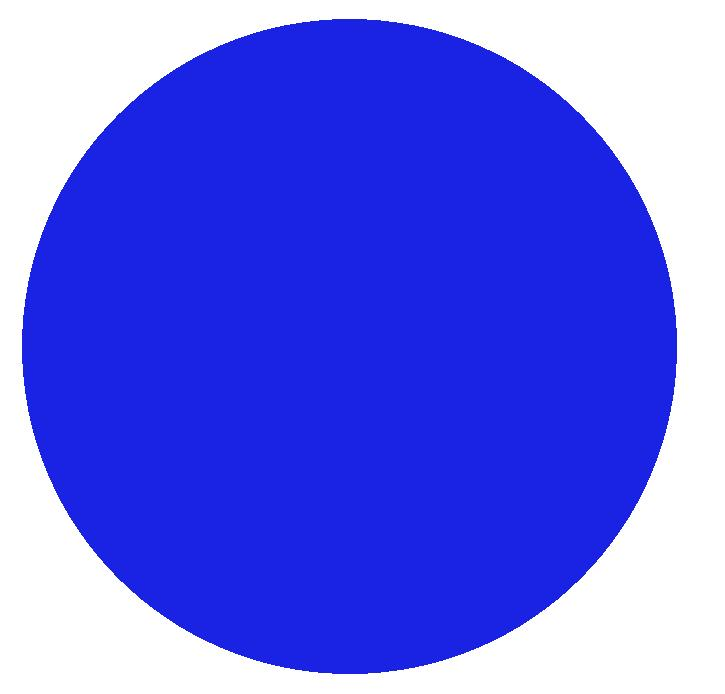blue_circle: (0, 10, 725, 694)
